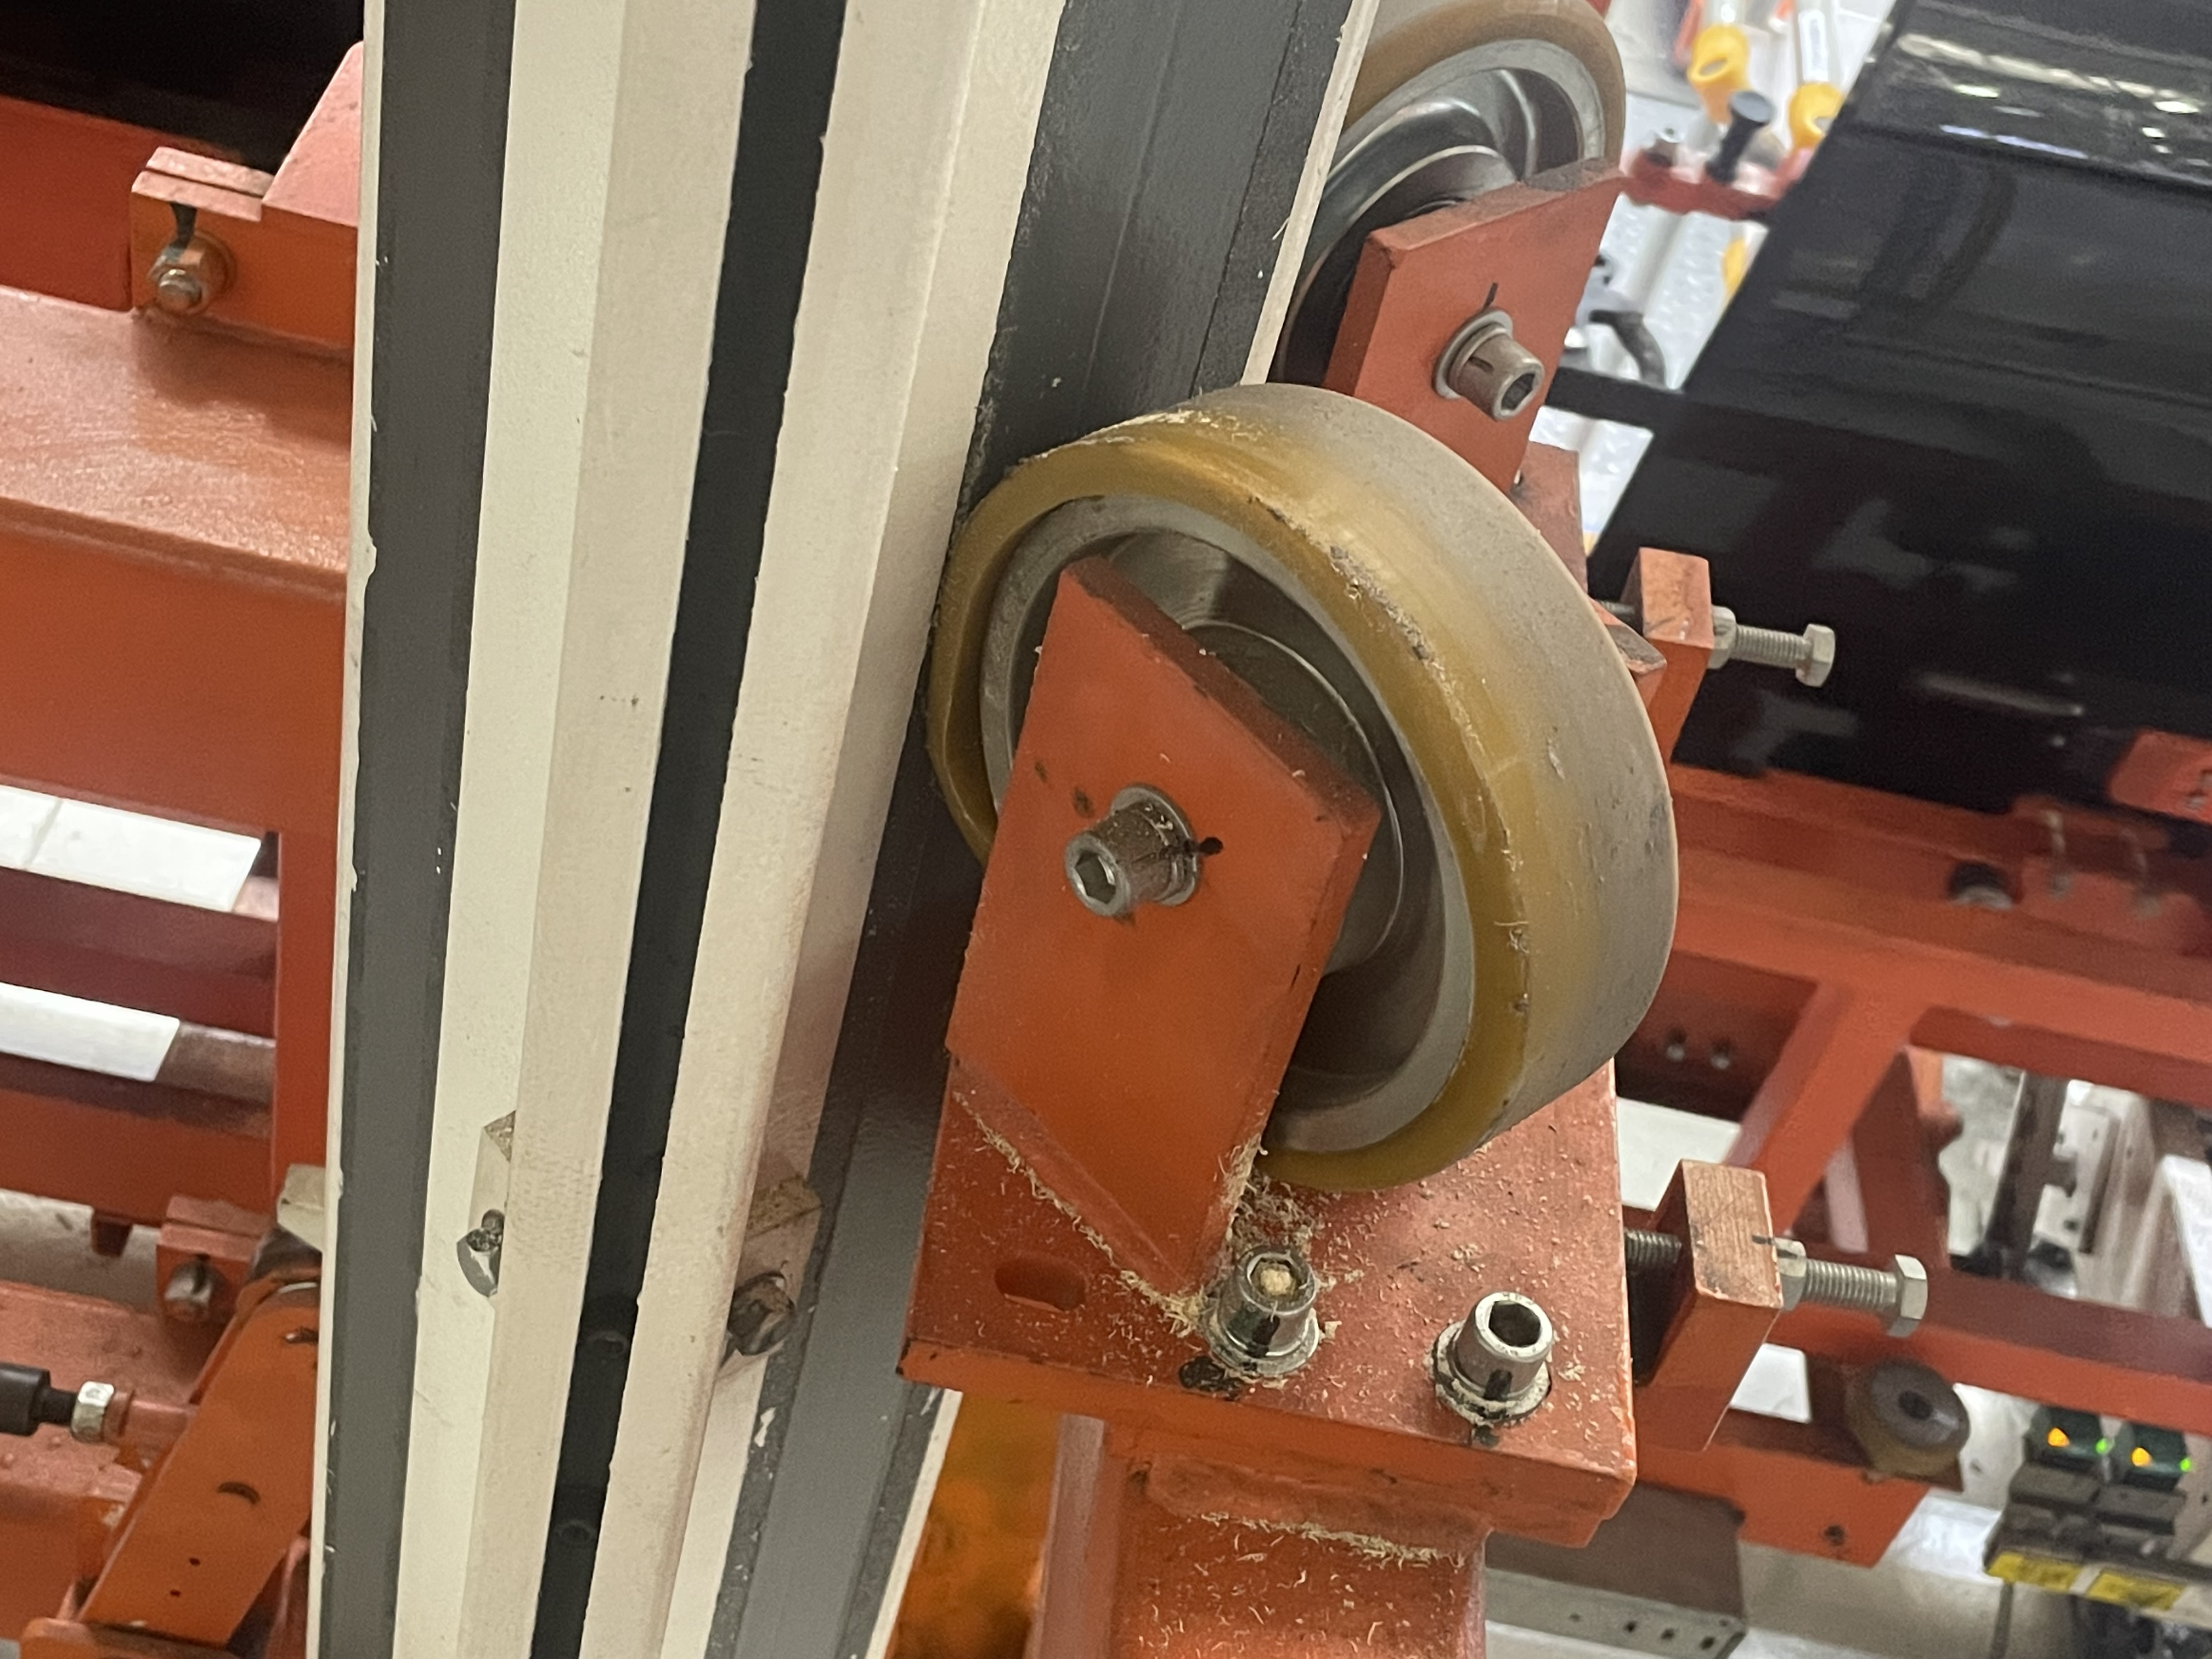bad_wheel: (918, 427, 1052, 878), (1066, 1190, 1230, 1380), (1214, 1127, 1404, 1283)
good_wheel: (1353, 9, 1635, 375)
